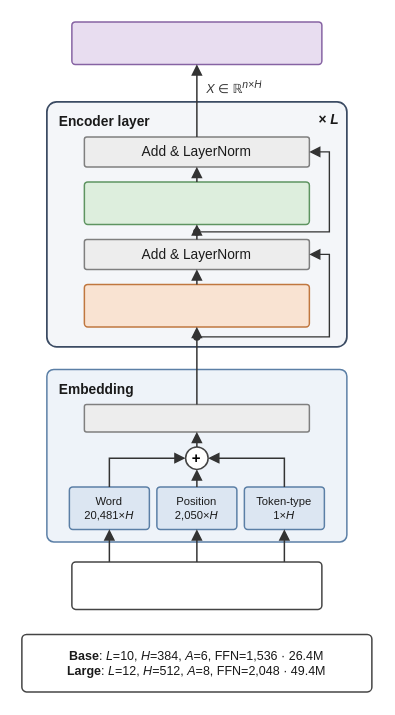
Some shapes in this 395 by 715 pixel diagram are drawn without their labels. Each missing label, with the centre of its shape:
Feed-forward (GELU) H → FFN → H: [196,202]
LayerNorm · Dropout: [196,417]
Multi-head self-attention A heads, d k = 64: [196,305]
Task head classification · ABSA · NER: [196,42]
Vietnamese text → BamiBERT tokenizer → token ids (≤ 256): [196,585]
